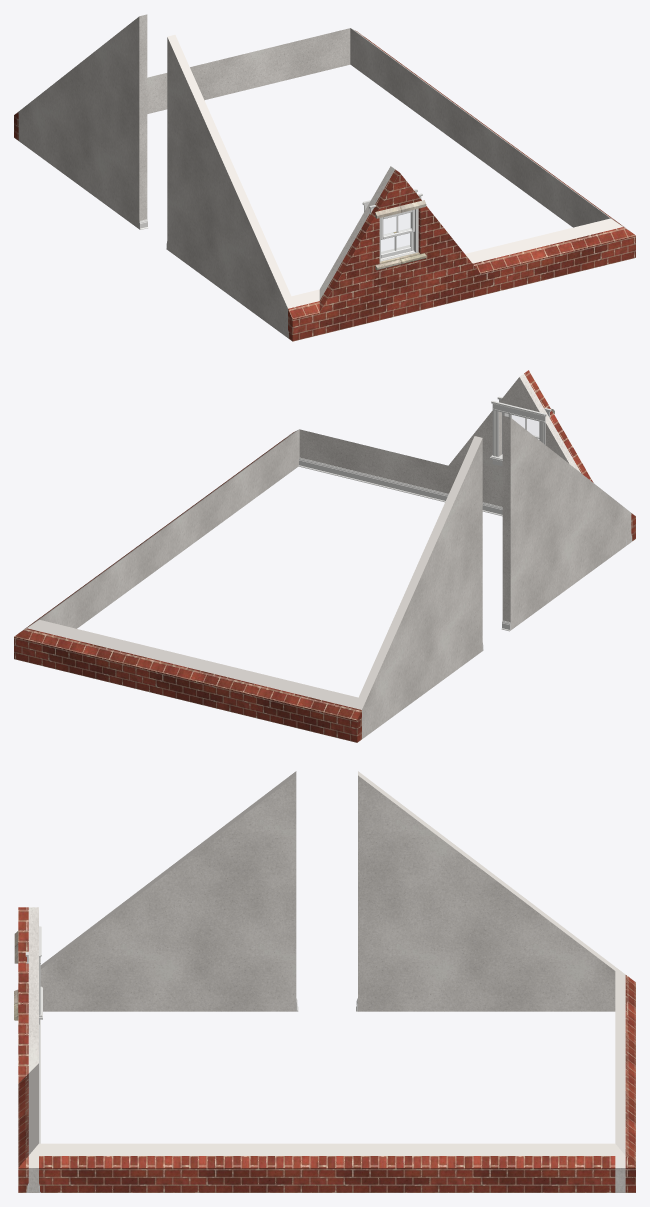
Rendered from shell_a_r.glb.
3 renders of one model, top to bottom at view 1: azimuth 30°, elevation 25°; view 2: azimuth 150°, elevation 25°; view 3: azimuth 270°, elevation 25°, orthographic. The views are drawn at different scales.
Visible parts, largest first — view 1: shell_a_r_plaster, shell_a_r_brick, shell_a_r_stone_c, shell_a_r_glass, shell_a_r_sash; view 2: shell_a_r_plaster, shell_a_r_brick, molduras; view 3: shell_a_r_plaster, shell_a_r_brick.
Part boxes in pixels (bbox=[...]): shell_a_r_plaster: bbox=[18, 14, 629, 337]; shell_a_r_brick: bbox=[14, 30, 635, 341]; shell_a_r_stone_c: bbox=[375, 200, 426, 270]; shell_a_r_glass: bbox=[381, 213, 411, 253]; shell_a_r_sash: bbox=[380, 209, 414, 258]; shell_a_r_plaster: bbox=[21, 374, 631, 738]; shell_a_r_brick: bbox=[14, 370, 635, 742]; molduras: bbox=[298, 396, 632, 650]; shell_a_r_plaster: bbox=[28, 771, 625, 1192]; shell_a_r_brick: bbox=[18, 907, 635, 1192].
Bounding box in the file's own units: 6.4 × 3.8 × 9.06.
Materials: 8 (3 with a texture image).
